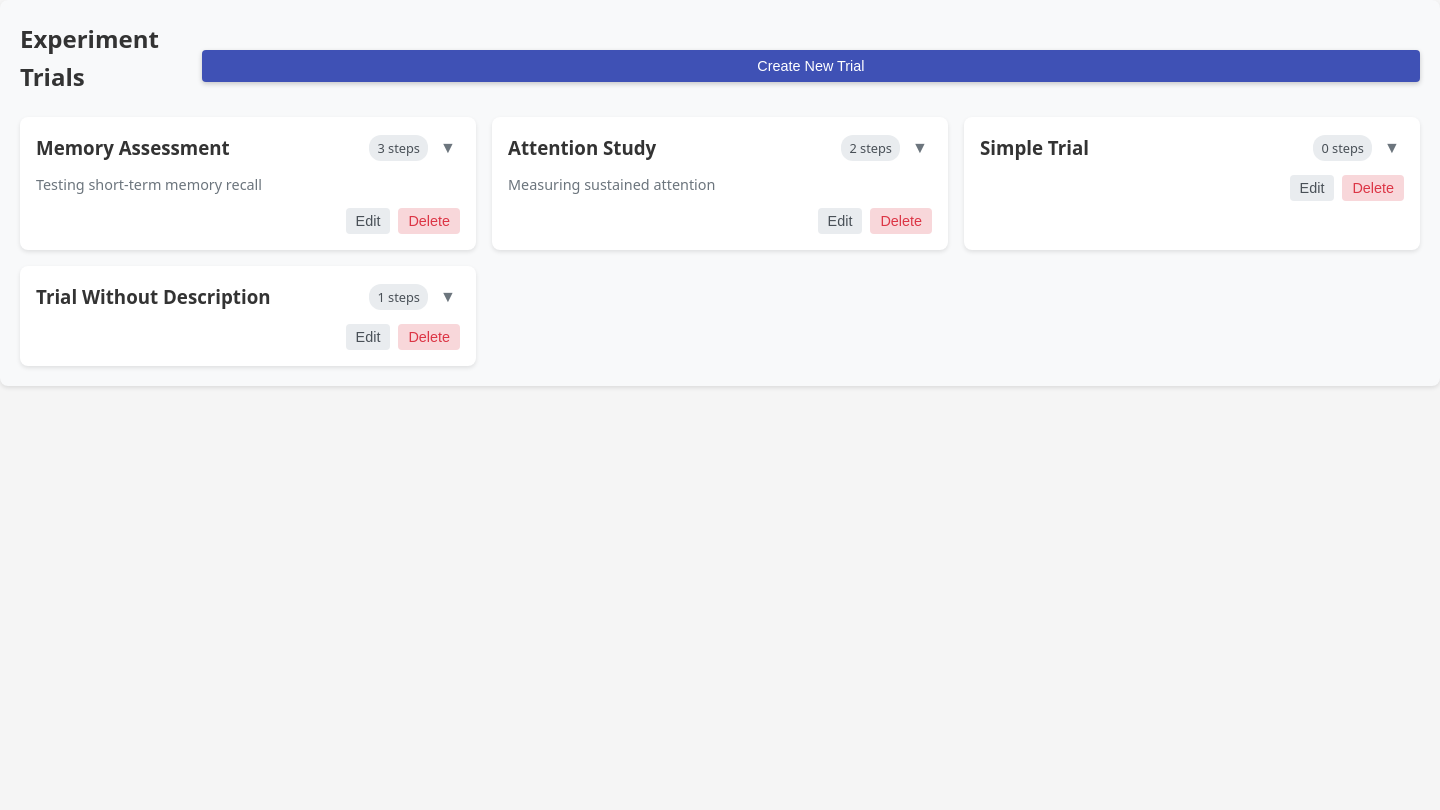
TrialList Component › Expand/Collapse Functionality › maintains independent expand/collapse state for each trial
Note: Expand first trial
Click the button "▼" in the row of "Memory Assessment": x=448, y=148 436,136 -> 460,160
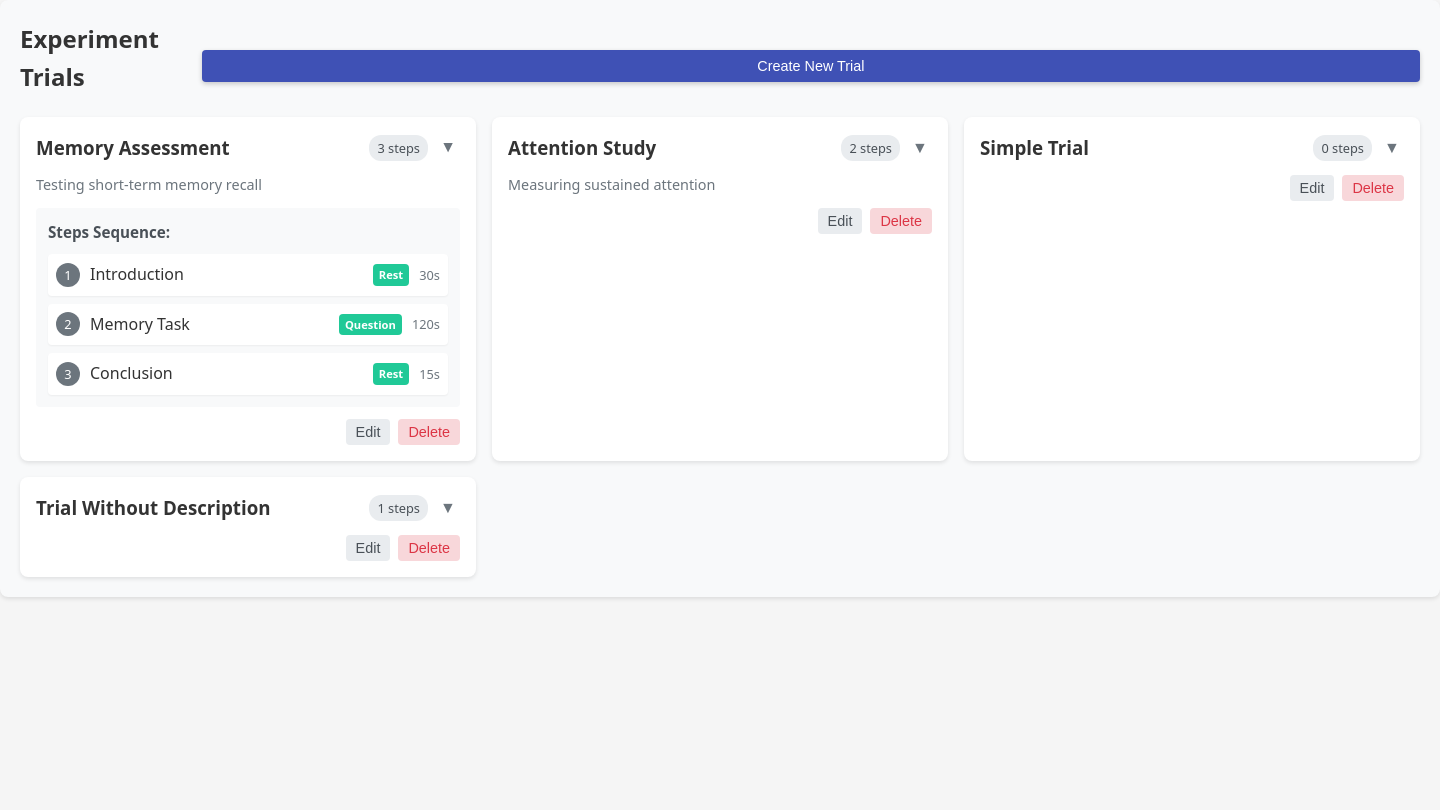
Expected: the text "Setup Instructions" is not shown
Result: the text "Introduction" is shown at 90,263 -> 184,285
Note: Expand second trial
Click the button "▼" in the row of "Attention Study": x=920, y=148 908,136 -> 932,160
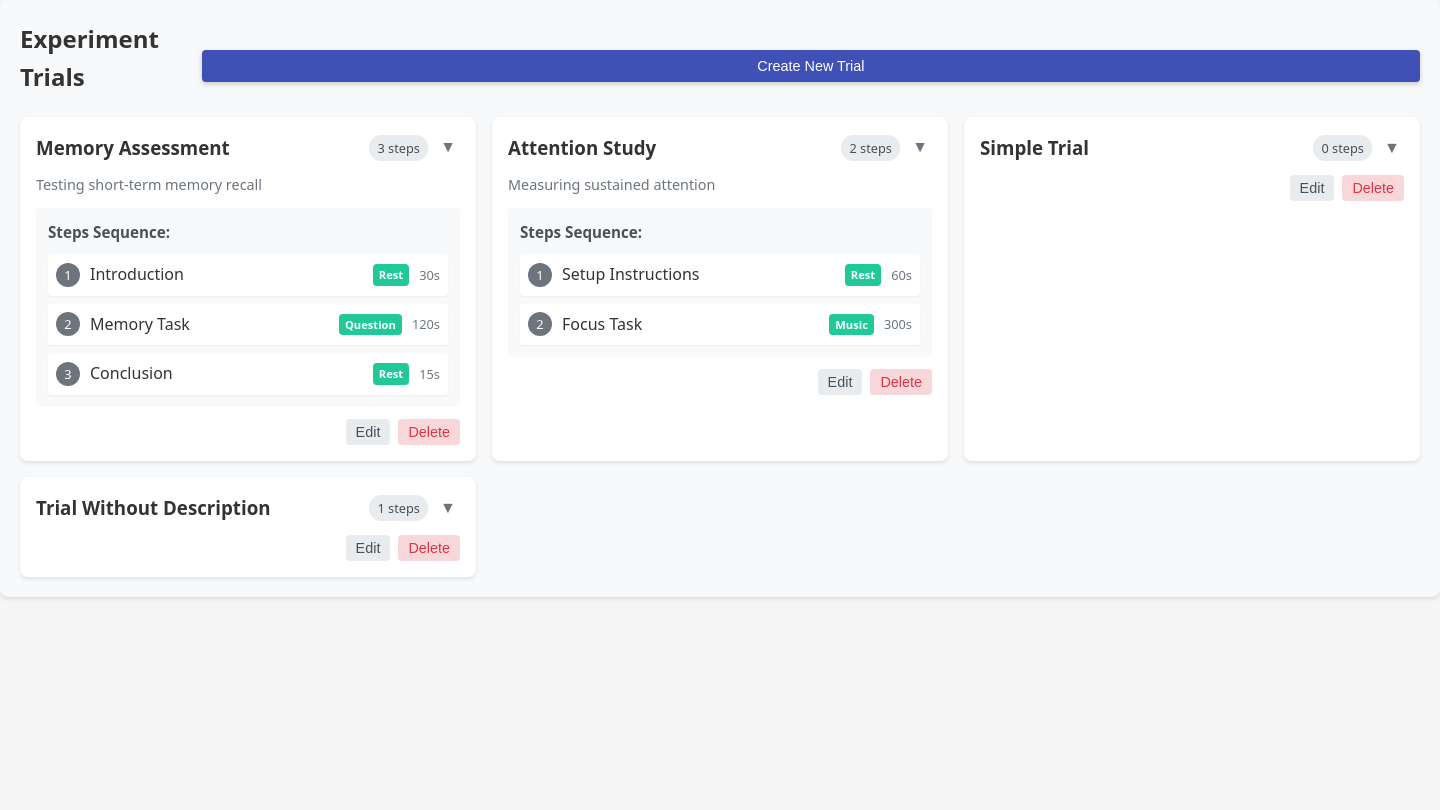
Result: the text "Introduction" is shown at 90,263 -> 184,285
Result: the text "Setup Instructions" is shown at 562,263 -> 700,285
